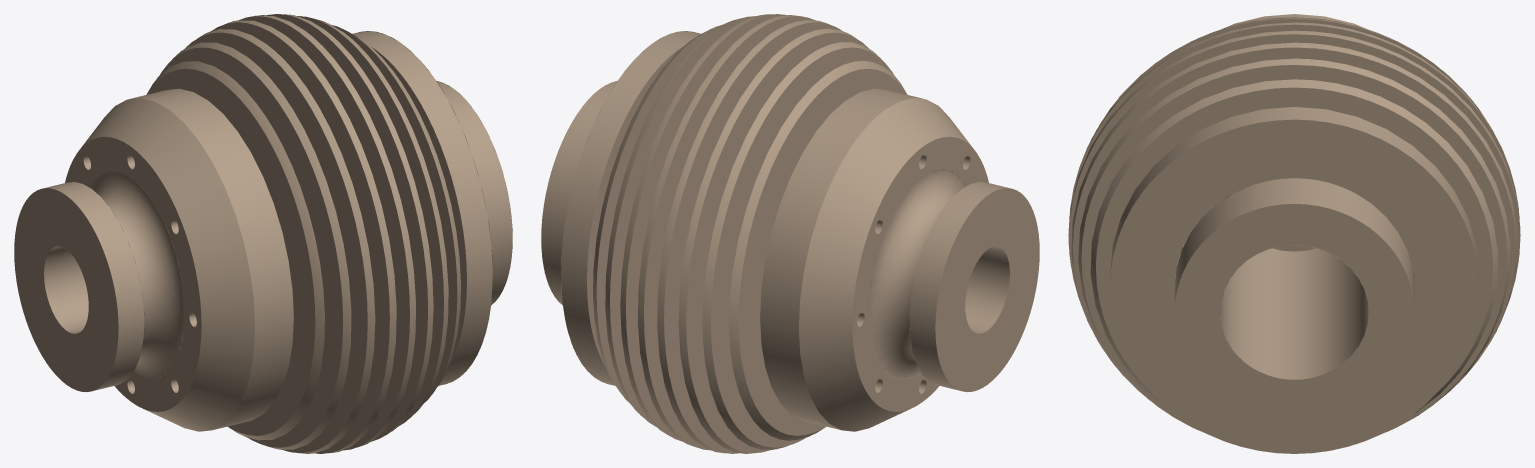
3 renders of one model, left to right at view 1: azimuth 30°, elevation 25°; view 2: azimuth 150°, elevation 25°; view 3: azimuth 270°, elevation 25°, orthographic.
Parts seen in each view (by area): view 1: Part9.IGS (×31); view 2: Part9.IGS (×31); view 3: Part9.IGS (×27).
Boxes of the visible parts, bbox=[...] form: Part9.IGS (×31): bbox=[14, 14, 512, 453]; Part9.IGS (×31): bbox=[541, 14, 1039, 453]; Part9.IGS (×27): bbox=[1068, 19, 1520, 453].
Size of the model in its own units: 0.15 by 0.149 by 0.149.
